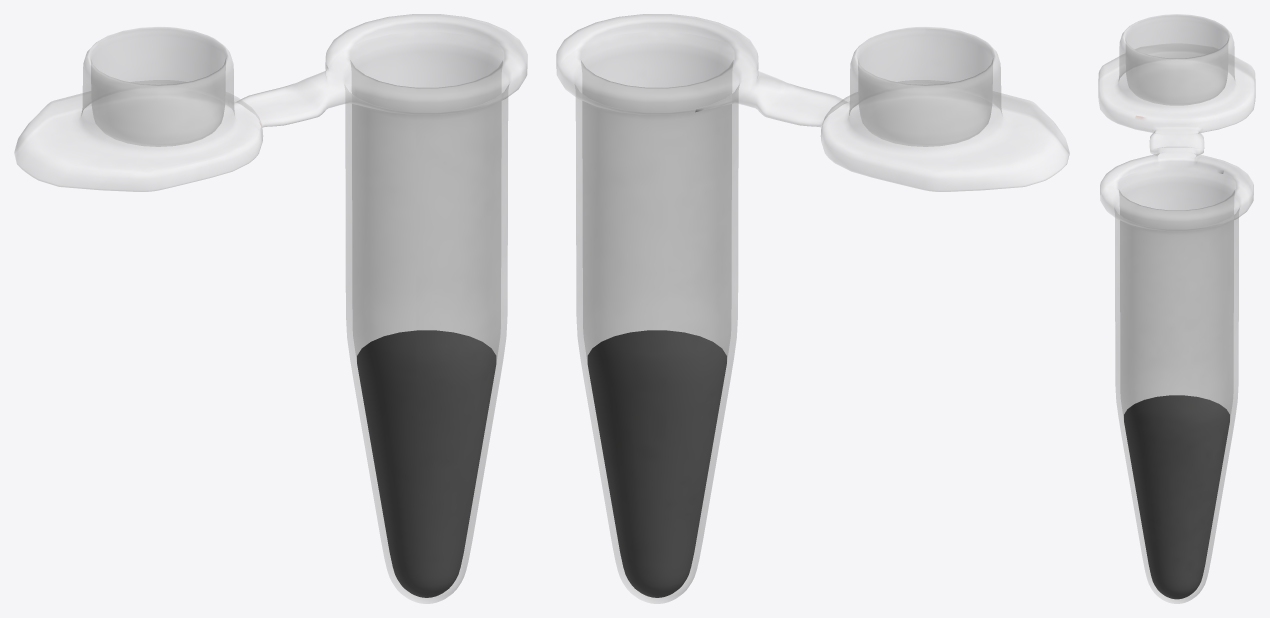
File: 预染蛋白Marker.glb
The picture shows the model from 3 angles, left to right: view 1: azimuth 30°, elevation 25°; view 2: azimuth 150°, elevation 25°; view 3: azimuth 270°, elevation 25°; orthographic projection. The views are drawn at different scales.
Visible parts, largest first — view 1: 离心管稀释液, 预染蛋白Marker; view 2: 离心管稀释液, 预染蛋白Marker; view 3: 离心管稀释液, 预染蛋白Marker.
Part boxes in pixels (x1=…): 离心管稀释液: x1=14, y1=14, x2=527, y2=603; 预染蛋白Marker: x1=357, y1=330, x2=496, y2=597; 离心管稀释液: x1=556, y1=14, x2=1069, y2=603; 预染蛋白Marker: x1=587, y1=330, x2=726, y2=597; 离心管稀释液: x1=1098, y1=14, x2=1255, y2=603; 预染蛋白Marker: x1=1124, y1=395, x2=1229, y2=599.
Size of the model in its own units: 0.00899 by 0.0107 by 0.00329.
Materials: 2 (2 with a texture image).
